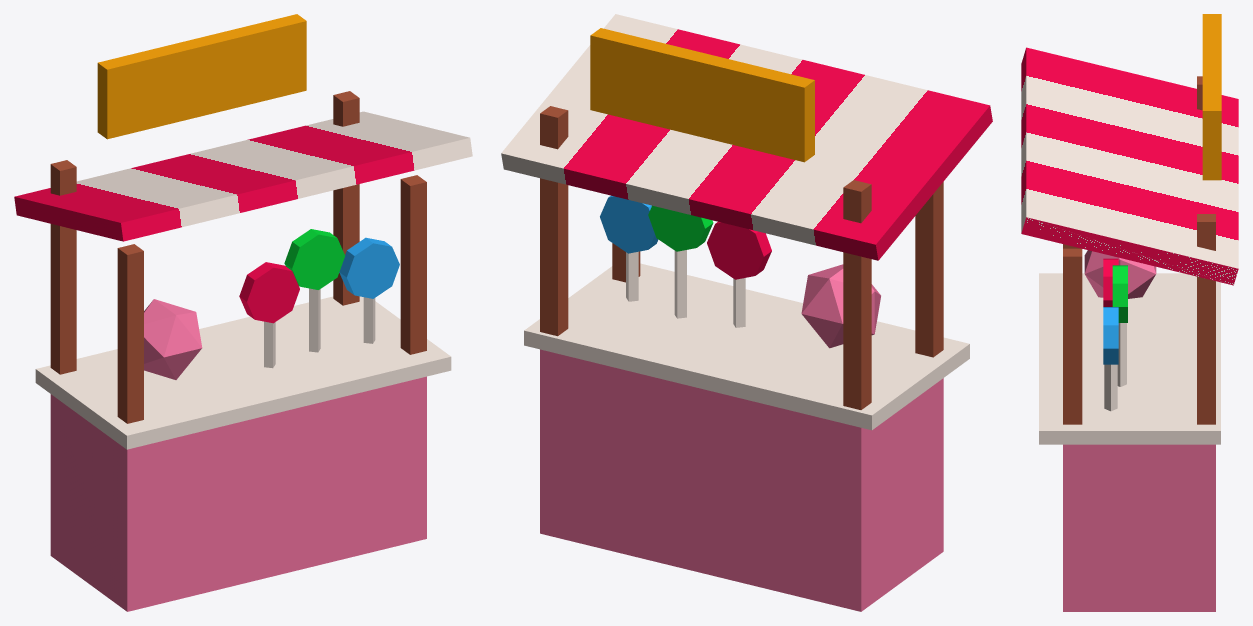
Rendered from stall.glb.
The picture shows the model from 3 angles, left to right: view 1: azimuth 30°, elevation 25°; view 2: azimuth 150°, elevation 25°; view 3: azimuth 270°, elevation 25°; orthographic projection. The views are drawn at different scales.
Parts seen in each view (by area): view 1: Counter, Top, Awning, Sign, PostBL, PostFL, PostFR, Floss, PostBR, Pop1, Pop3, Pop2 (+1 smaller); view 2: Counter, Awning, Top, Sign, PostBL, PostBR, PostFL, Floss, Pop1, Pop3, Pop2, Stick2; view 3: Awning, Counter, Top, PostFR, PostBR, Sign, Floss, Pop3, Pop2, Stick3, Stick2, Pop1.
Part boxes in pixels (x1,y1,x2,y2): Counter: (50, 376, 426, 611); Top: (35, 296, 451, 449); Awning: (14, 111, 472, 241); Sign: (97, 14, 306, 139); PostBL: (50, 160, 76, 374); PostFL: (117, 244, 143, 423); PostFR: (400, 175, 426, 354); Floss: (144, 299, 202, 379); PostBR: (333, 91, 359, 305); Pop1: (239, 262, 299, 323); Pop3: (339, 237, 399, 298); Pop2: (284, 229, 344, 289); Counter: (540, 349, 943, 611); Awning: (501, 14, 992, 260); Top: (524, 263, 969, 430); Sign: (590, 28, 814, 162); PostBL: (843, 180, 871, 409); PostBR: (540, 106, 568, 336); PostFL: (915, 182, 943, 357); Floss: (801, 264, 880, 348); Pop1: (707, 221, 771, 279); Pop3: (600, 195, 658, 253); Pop2: (648, 205, 713, 251); Stick2: (674, 250, 686, 318); Awning: (1021, 47, 1238, 285); Counter: (1063, 444, 1215, 611); Top: (1039, 273, 1220, 444); PostFR: (1063, 248, 1082, 424); PostBR: (1197, 214, 1215, 424); Sign: (1202, 14, 1221, 180); Floss: (1084, 250, 1156, 298); Pop3: (1103, 307, 1118, 364); Pop2: (1112, 265, 1127, 322); Stick3: (1104, 364, 1117, 411); Stick2: (1117, 323, 1126, 386); Pop1: (1103, 258, 1118, 306).
Size of the model in its own units: 2.1 by 2.75 by 1.14.
Materials: 9 (1 with a texture image).
